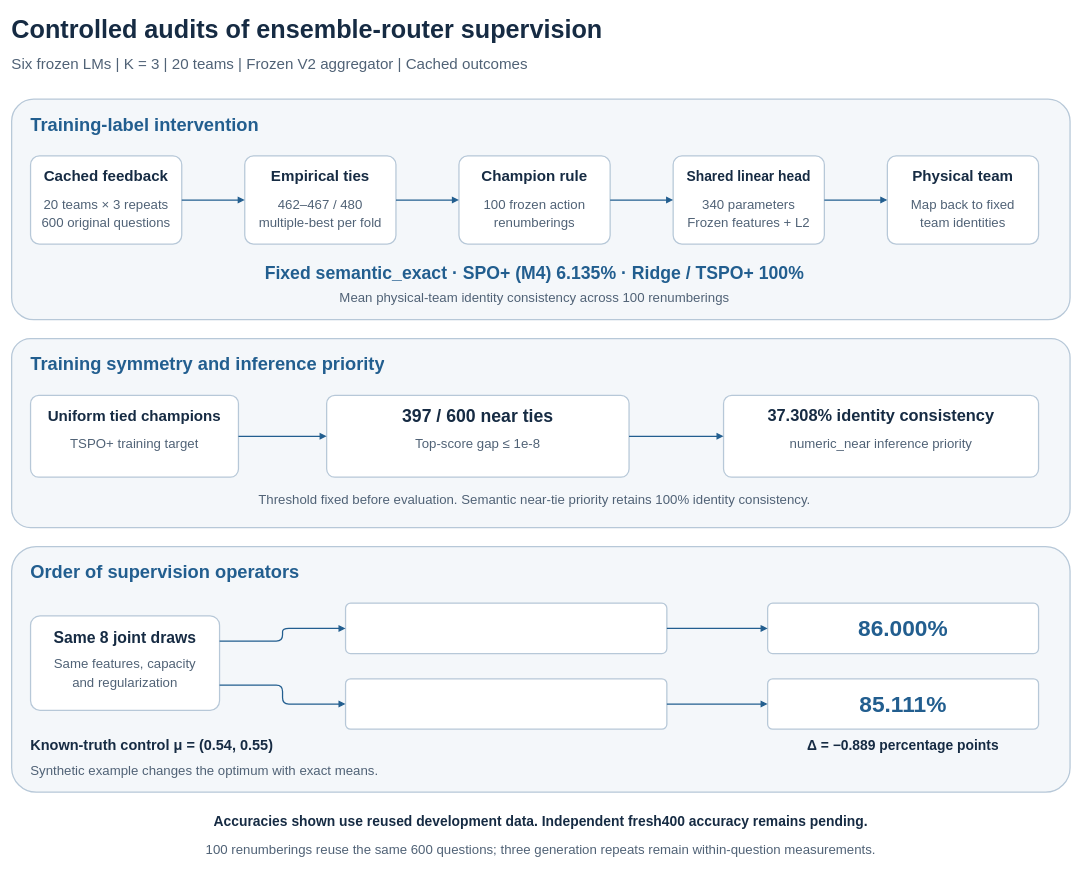
Image size: 1081x869. Some labels were removed from this diagram. The shapes that lost their labels are listed below. From the top down, each one's centre as x and y in pixels, then its label:
At (506,628): "LossThenMean E[L(q, R)]".
At (506,704): "MeanThenLoss L(q, E[R])".
